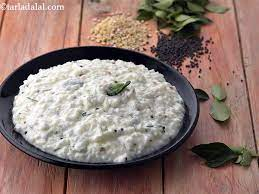curd_rice: (6, 54, 189, 168)
